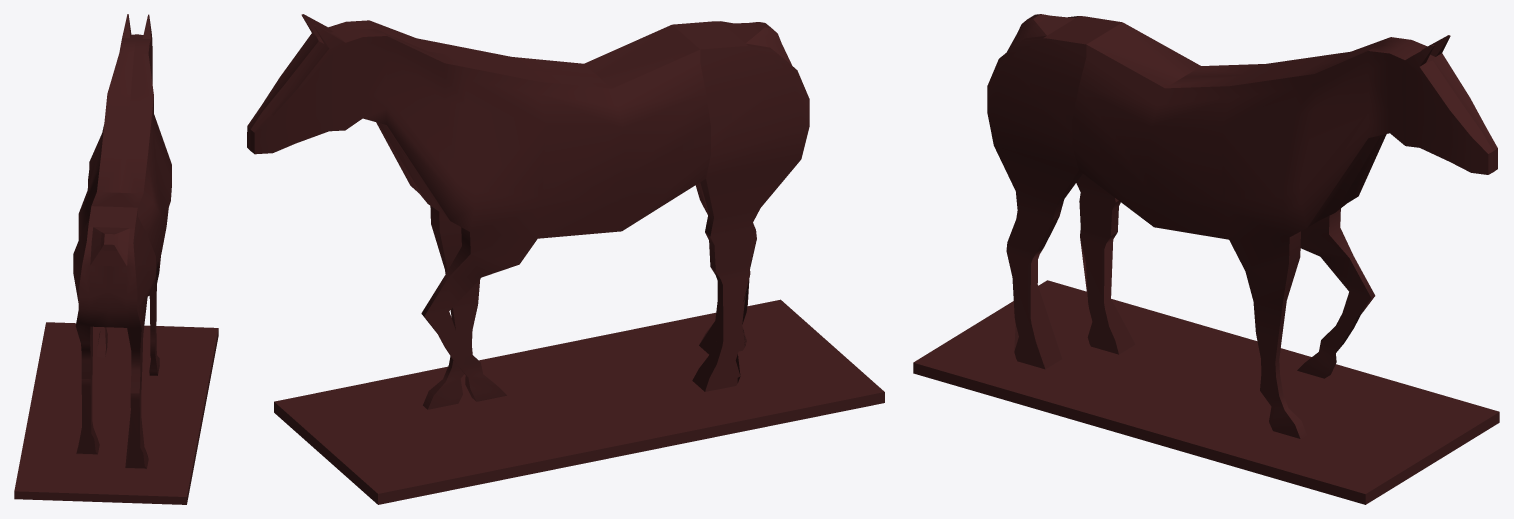
Rendered from horse_model.fbx.
3 renders of one model, left to right at view 1: azimuth 30°, elevation 25°; view 2: azimuth 150°, elevation 25°; view 3: azimuth 270°, elevation 25°, orthographic. The views are drawn at different scales.
Parts seen in each view (by area): view 1: horse_model_mesh; view 2: horse_model_mesh; view 3: horse_model_mesh.
Part boxes in pixels (x1,y1,x2,y2): horse_model_mesh: (14,14,218,504); horse_model_mesh: (247,14,884,504); horse_model_mesh: (913,14,1499,504).
Size of the model in its own units: 2 by 1.87 by 2.31.
